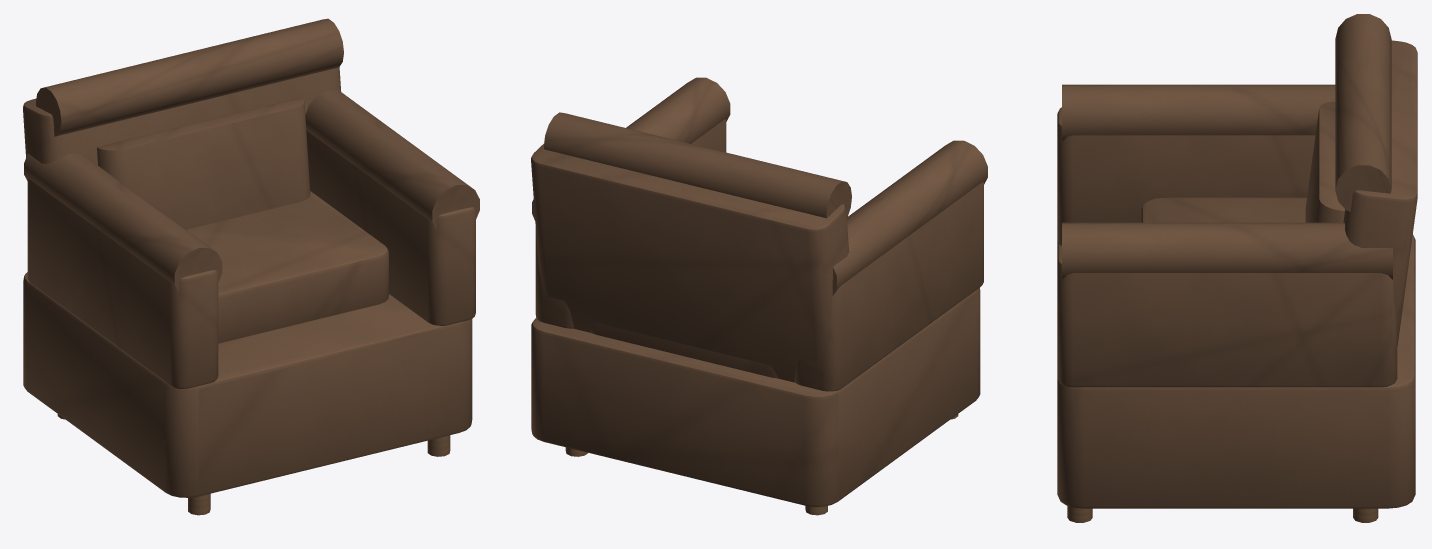
File: lounge_armchair.glb
3 renders of one model, left to right at view 1: azimuth 30°, elevation 25°; view 2: azimuth 150°, elevation 25°; view 3: azimuth 270°, elevation 25°, orthographic. The views are drawn at different scales.
Parts seen in each view (by area): view 1: Base, Arm_L, Seat_Cushion, Back_Cushion, Back_Roll, Arm_R, Arm_Roll_L, Arm_Roll_R, Back; view 2: Base, Back, Arm_L, Back_Roll, Arm_Roll_L, Arm_Roll_R, Seat_Cushion, Arm_R; view 3: Base, Arm_R, Arm_L, Arm_Roll_R, Arm_Roll_L, Back_Roll, Back, Seat_Cushion, Back_Cushion.
Part boxes in pixels (box(x1,y1,x2,y2)): Base: box(23, 272, 472, 497); Arm_L: box(27, 179, 218, 388); Seat_Cushion: box(186, 191, 388, 343); Back_Cushion: box(97, 97, 310, 229); Back_Roll: box(36, 18, 343, 136); Arm_R: box(306, 130, 475, 325); Arm_Roll_L: box(24, 153, 222, 292); Arm_Roll_R: box(305, 90, 479, 229); Back: box(23, 67, 341, 164); Base: box(531, 287, 980, 506); Back: box(531, 144, 849, 382); Arm_L: box(794, 182, 983, 391); Back_Roll: box(544, 112, 851, 218); Arm_Roll_L: box(832, 140, 987, 295); Arm_Roll_R: box(532, 77, 730, 220); Seat_Cushion: box(590, 323, 778, 378); Arm_R: box(535, 119, 726, 328); Base: box(1057, 234, 1415, 508); Arm_R: box(1057, 245, 1397, 387); Arm_L: box(1057, 107, 1315, 245); Arm_Roll_R: box(1062, 222, 1392, 279); Arm_Roll_L: box(1062, 84, 1335, 141); Back_Roll: box(1335, 14, 1391, 211); Back: box(1343, 40, 1417, 346); Seat_Cushion: box(1141, 197, 1306, 222); Back_Cushion: box(1305, 101, 1344, 222).
Bounding box in the file's own units: 0.8526 × 0.8854 × 0.8549.
3 materials, 2 textured.
